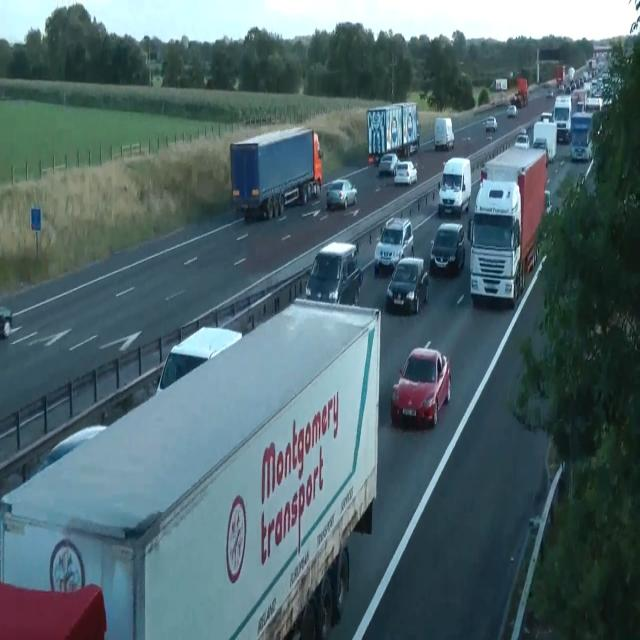bus: (156, 326, 242, 396), (391, 344, 451, 428), (298, 546, 350, 639), (32, 424, 108, 477), (386, 256, 428, 315), (325, 178, 357, 210), (393, 160, 417, 186), (377, 153, 399, 176), (532, 137, 548, 166), (0, 306, 12, 338), (514, 132, 530, 150), (586, 96, 602, 111), (484, 115, 498, 132), (529, 516, 541, 535), (544, 190, 552, 214), (511, 94, 523, 108), (507, 104, 518, 118), (368, 153, 380, 165), (540, 112, 552, 122), (409, 143, 417, 154), (546, 89, 554, 99)
jeep: (305, 240, 363, 305), (374, 215, 414, 274), (437, 156, 471, 216), (429, 221, 465, 275), (570, 111, 592, 162)
minibus: (0, 296, 382, 639), (467, 146, 549, 308), (230, 126, 322, 222), (366, 102, 421, 164), (532, 119, 557, 163), (552, 94, 572, 143), (434, 118, 454, 150), (510, 78, 528, 109), (555, 65, 566, 88), (490, 78, 508, 91)
